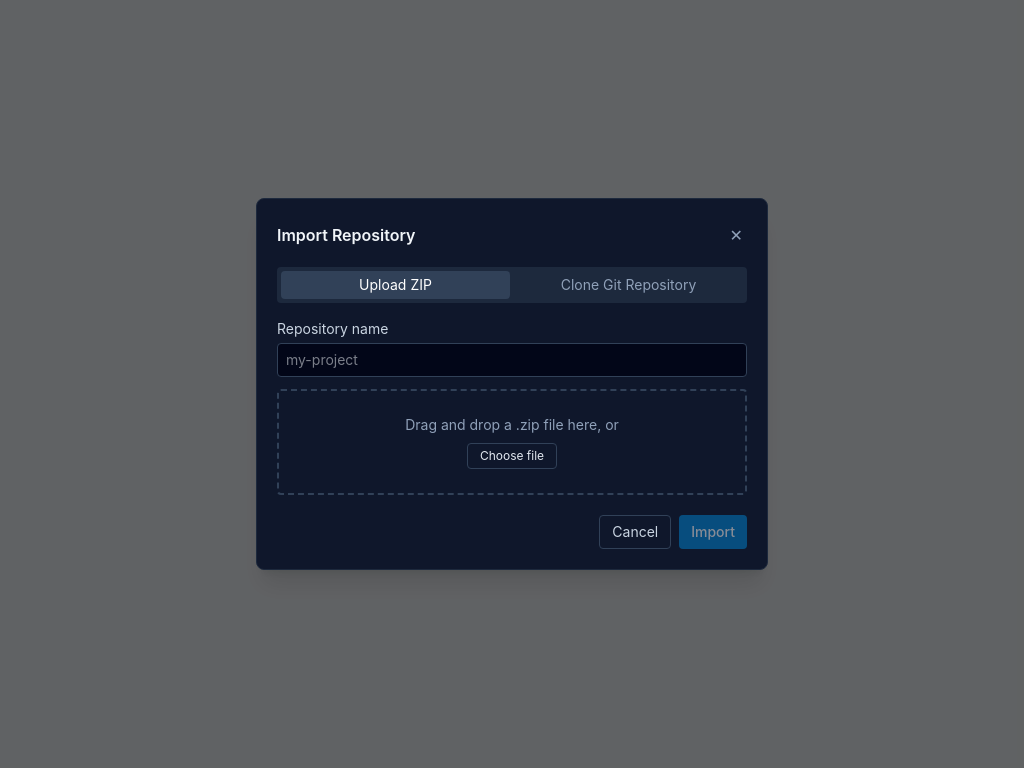
Test: ImportRepositoryDialog › switches to the Clone Git tab and requires a URL before enabling Import
The width and height of the screenshot is (1024, 768).
Click the button "Clone Git Repository". click: (628, 285)
box: x1=514 y1=271 x2=743 y2=299
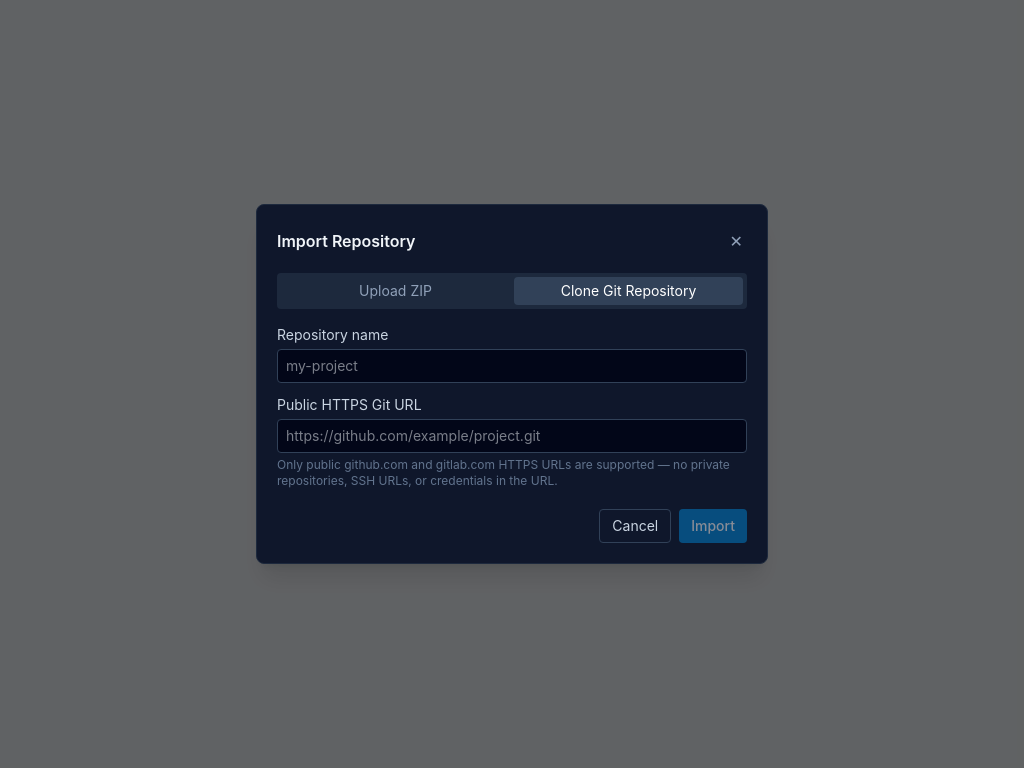
Expected: the button "Import" is disabled, x1=679 y1=509 x2=747 y2=543
Now the field with placeholder "https://github.com/example/project.git" is shown, box x1=277 y1=419 x2=747 y2=453
Type "demo" into the field labelled "Repository name". click: (512, 366)
box: x1=277 y1=349 x2=747 y2=383
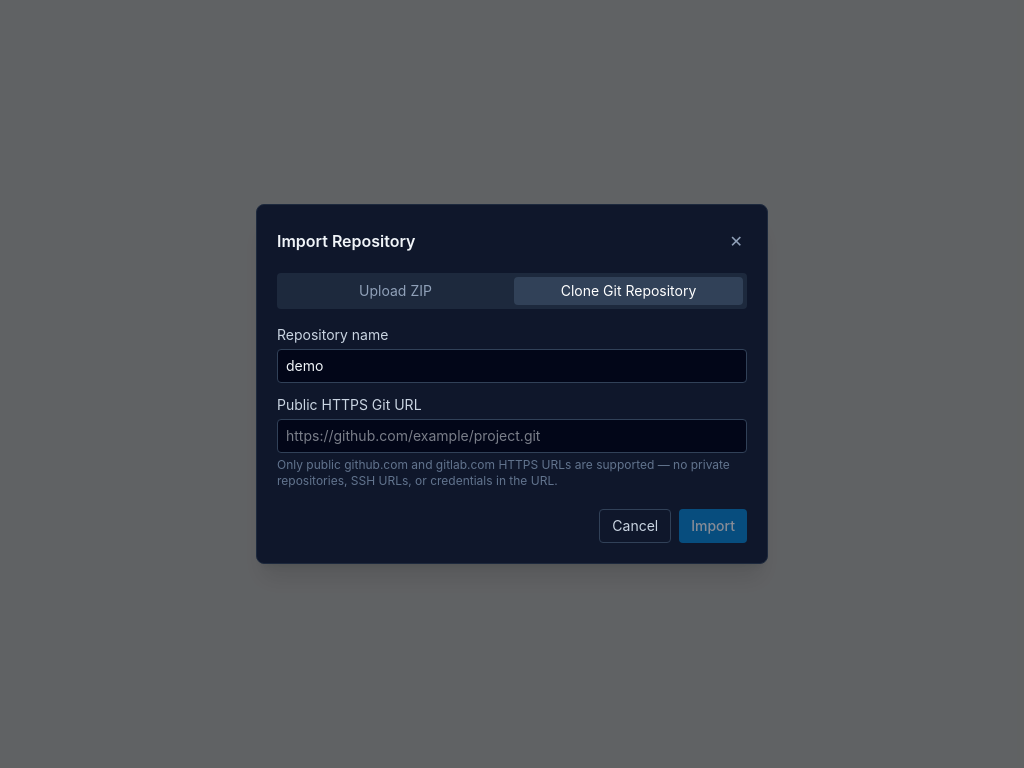
Type "https://github.com/example/demo.git" into the field with placeholder "https://github.com/example/project.git". click: (512, 436)
box: x1=277 y1=419 x2=747 y2=453
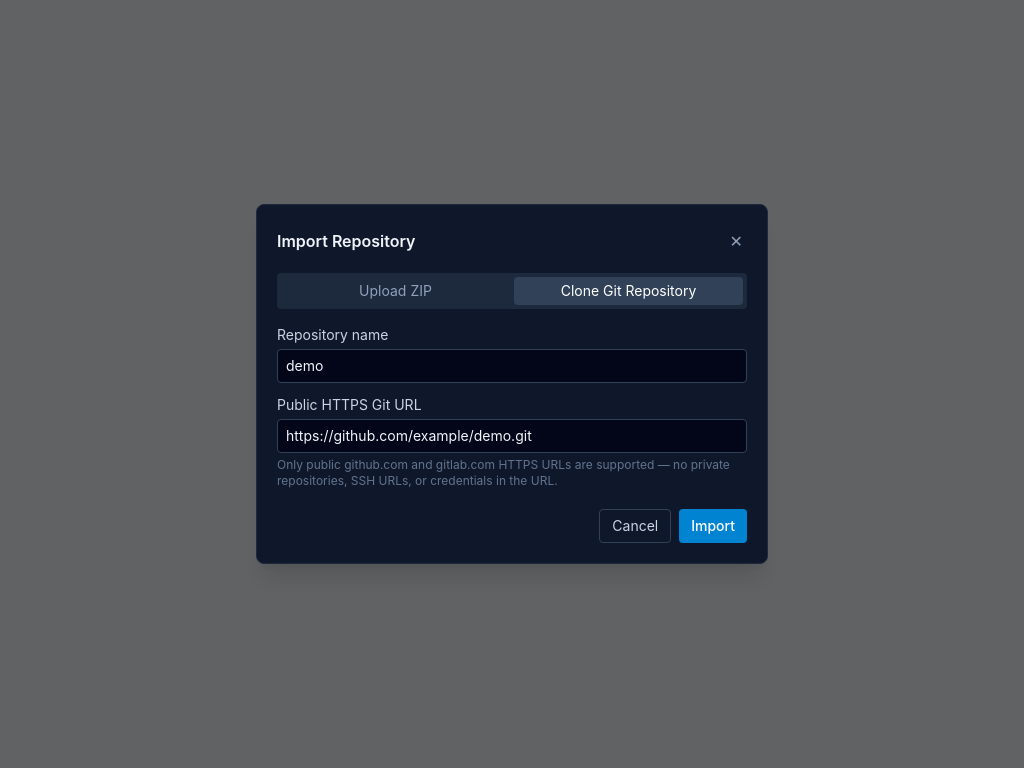
Now the button "Import" is enabled, box x1=679 y1=509 x2=747 y2=543
